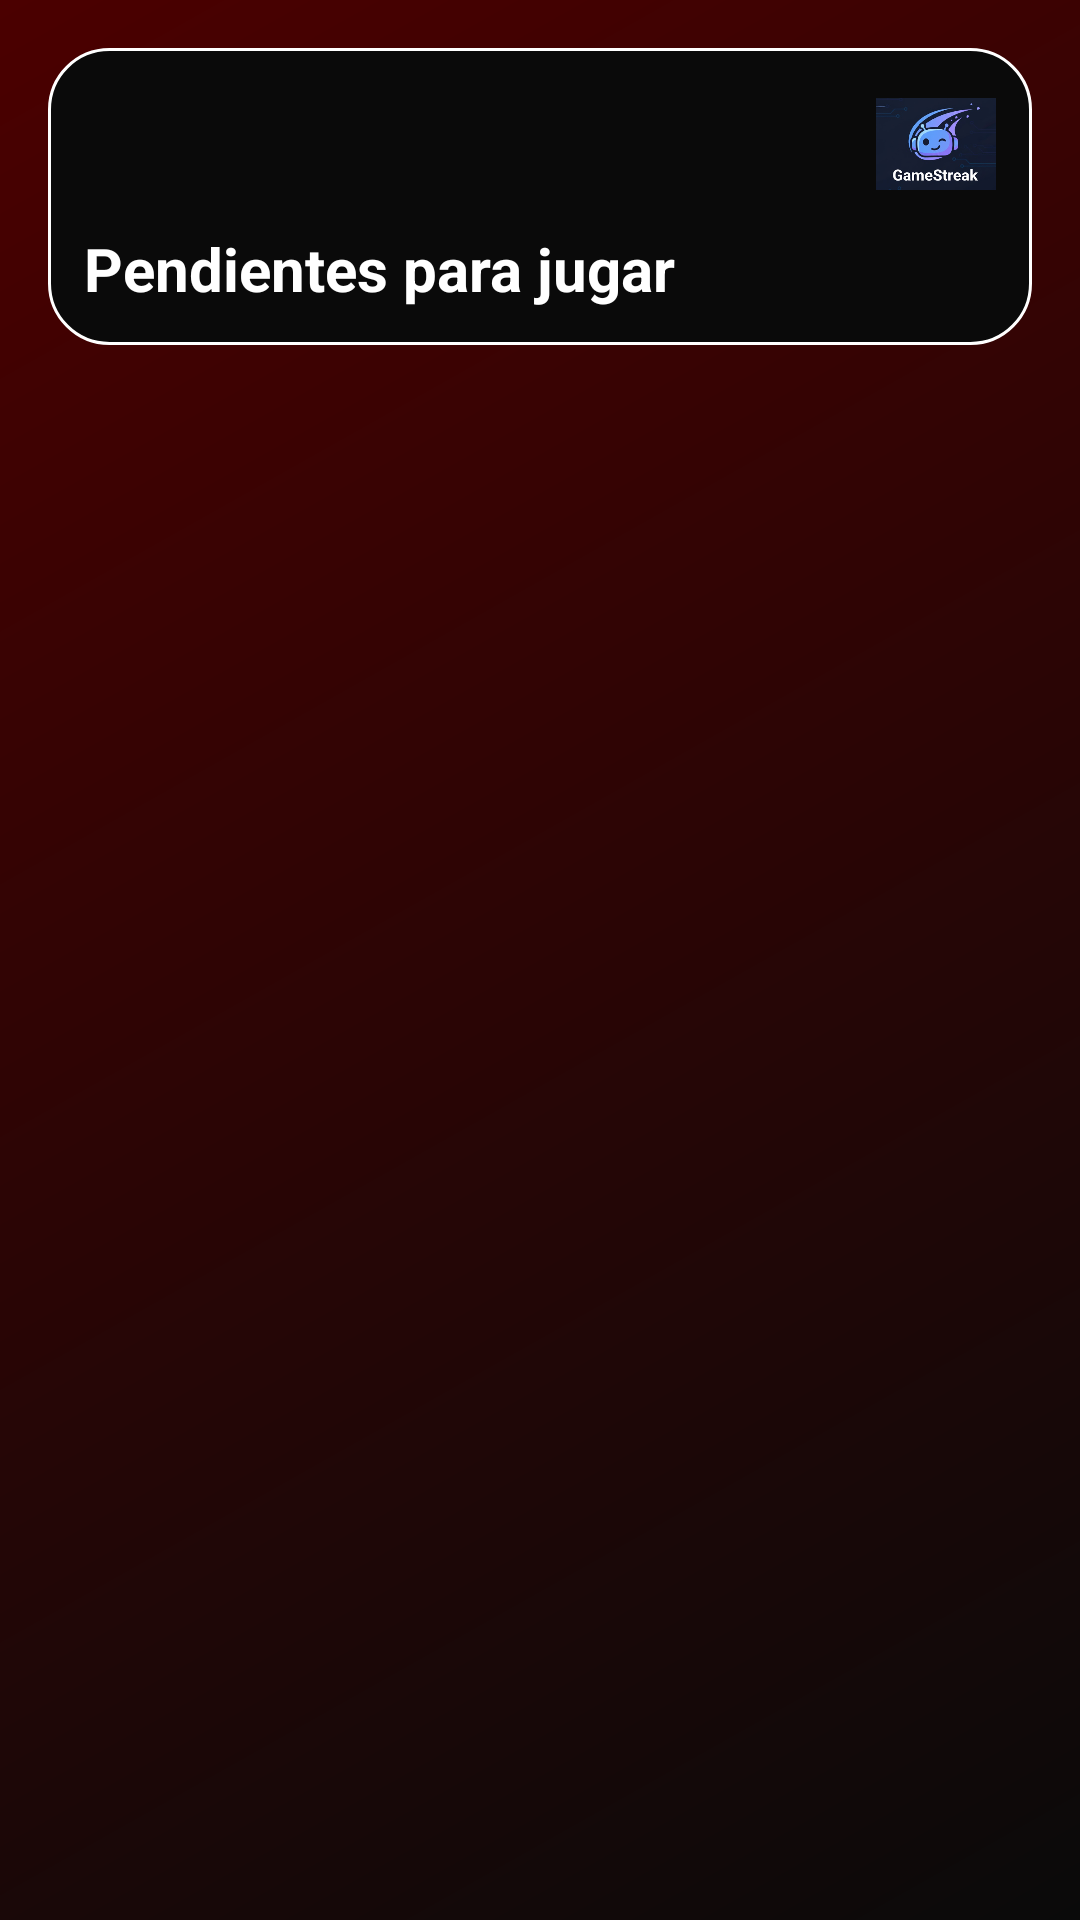

Point at icon controls on the screen. Image size 1080x1920, points as (x,y).
loguito: (936,144)
